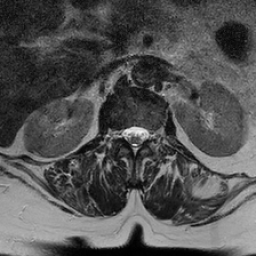CCS_normal: (130, 117, 139, 161)
LFS_stenosis: (148, 122, 157, 146)
LLS_normal: (139, 117, 148, 148)
RFS_normal: (114, 120, 122, 147)
RLS_normal: (122, 118, 130, 146)
